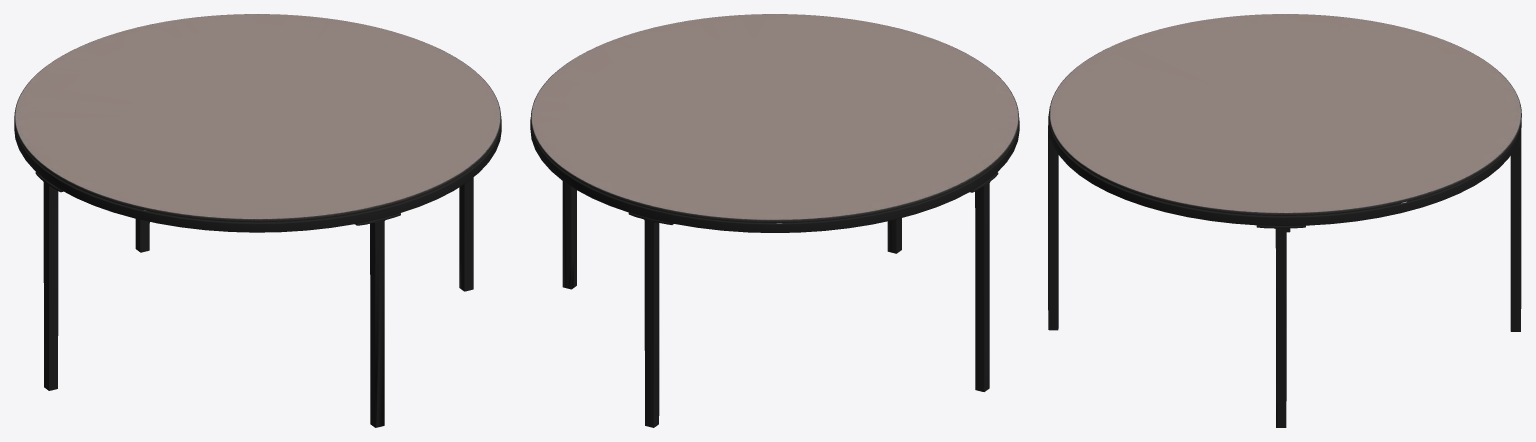
Rendered from B07QPZLFCB.glb.
3 views of the same model, side by side, from view 1: azimuth 30°, elevation 25°; view 2: azimuth 150°, elevation 25°; view 3: azimuth 270°, elevation 25° (orthographic). The views are drawn at different scales.
Visible parts, largest first — view 1: RootNode; view 2: RootNode; view 3: RootNode.
Part boxes in pixels (x1,y1,x2,y2): RootNode: (14,14,501,427); RootNode: (530,14,1019,427); RootNode: (1048,14,1521,427).
Size of the model in its own units: 0.8 by 0.3999 by 0.8.
1 material, 1 textured.
